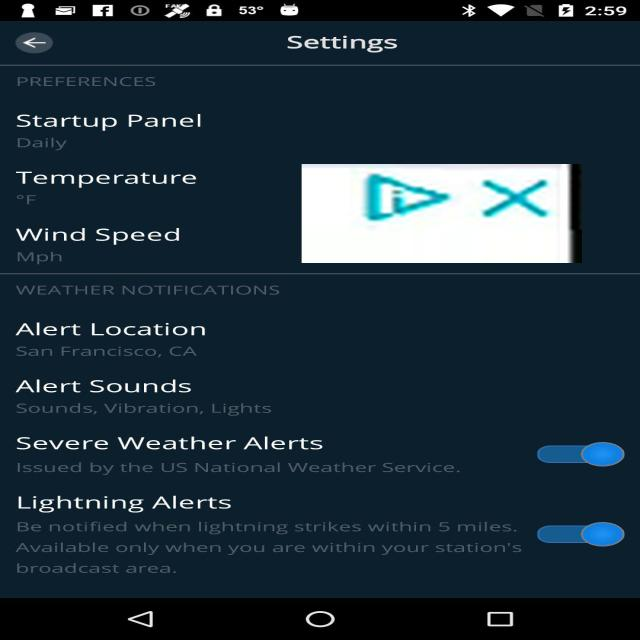sneaking: (302, 164, 582, 263)
